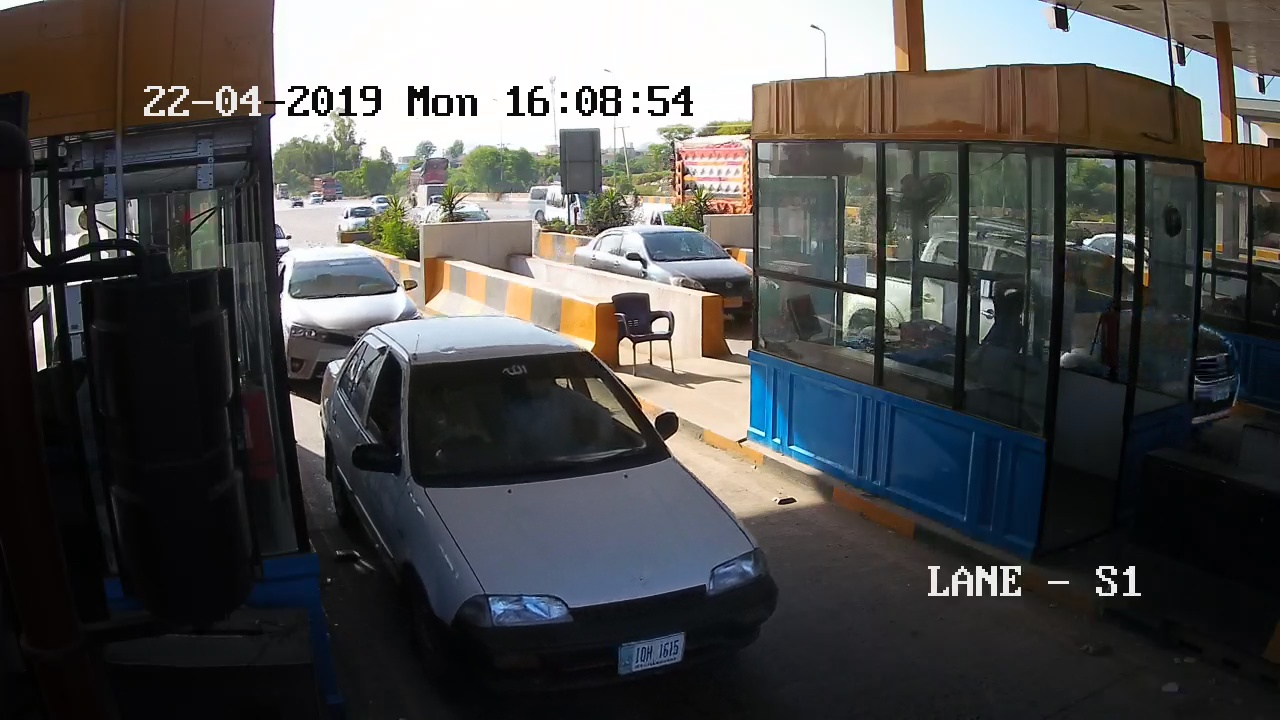Number Plate (Car): (620, 636, 682, 669)
